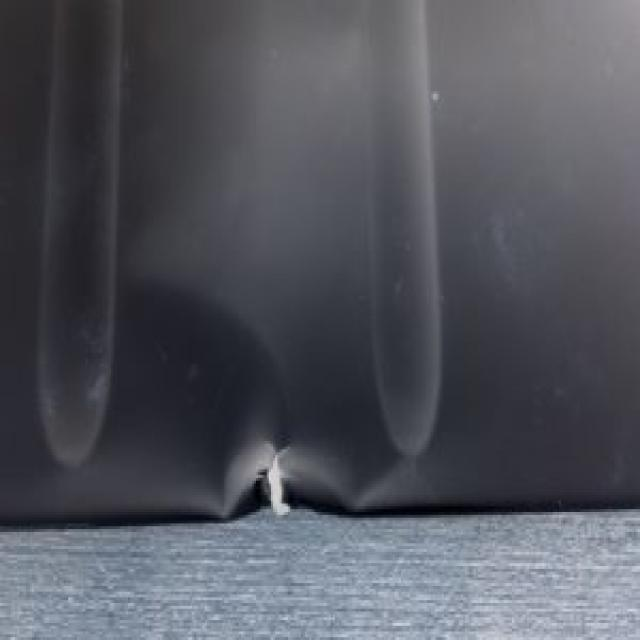crack: (245, 433, 303, 524)
dent: (82, 278, 289, 518), (36, 0, 125, 471), (367, 0, 442, 459)
